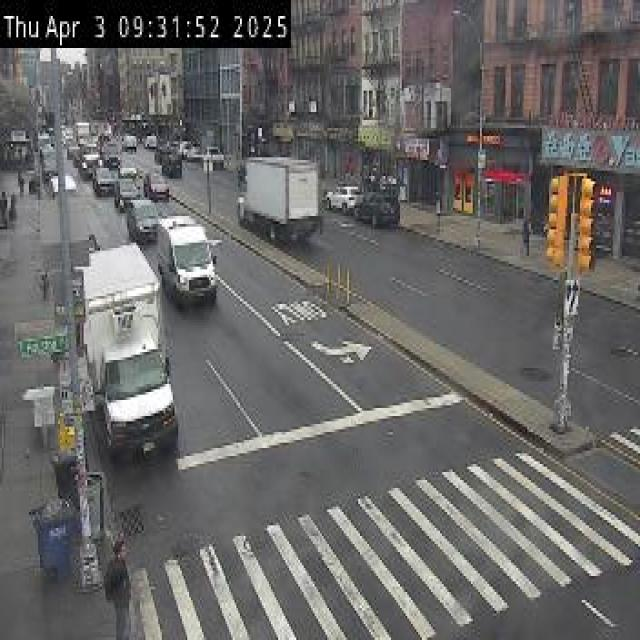open parking: (391, 205, 532, 270)
parkedCars: (322, 153, 425, 224)
